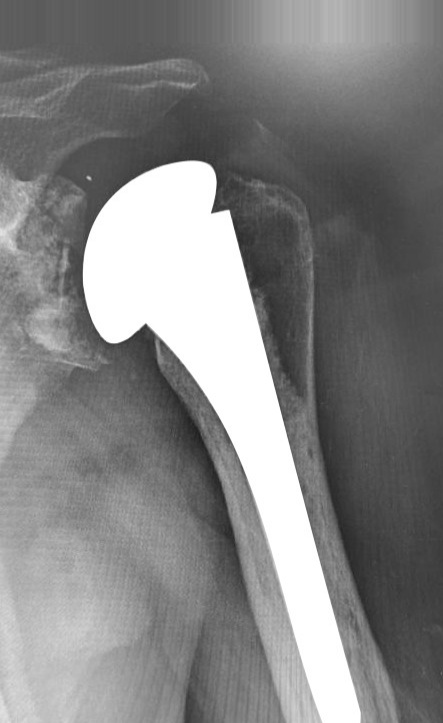Shoulder - Anotomical - Stryker: (69, 151, 269, 352)
